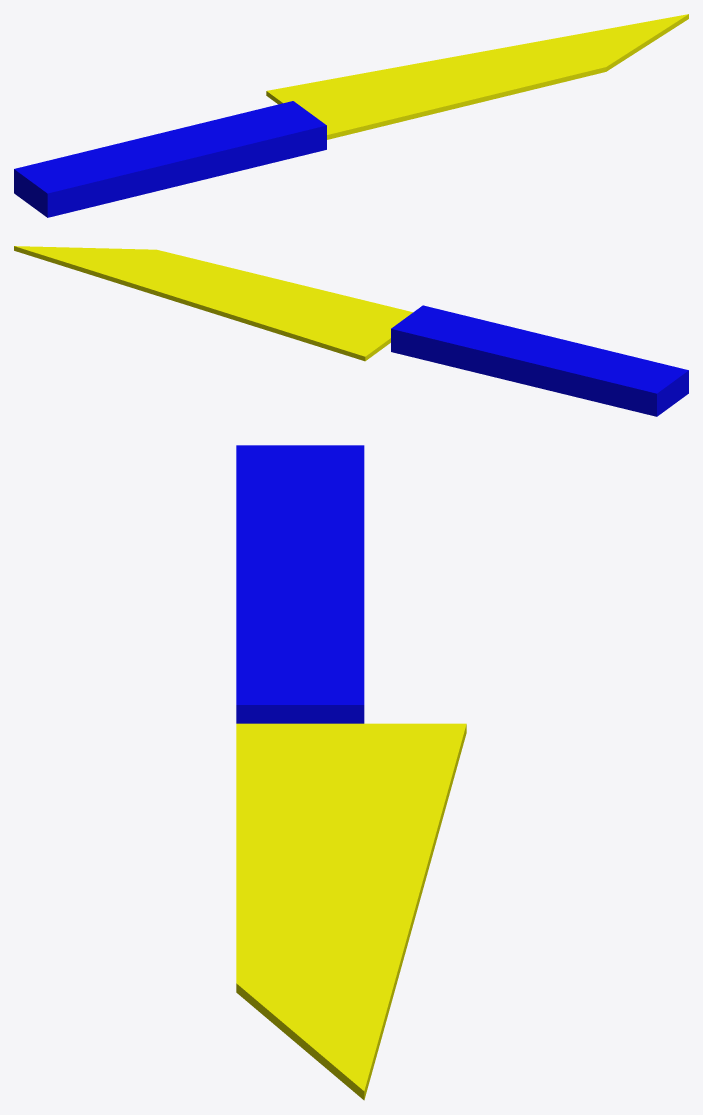
Rendered from nil_link_mesh.dae.
3 views of the same model, one above another, from view 1: azimuth 30°, elevation 25°; view 2: azimuth 150°, elevation 25°; view 3: azimuth 270°, elevation 25° (orthographic). The views are drawn at different scales.
Visible parts, largest first — view 1: nil_link (×2); view 2: nil_link (×2); view 3: nil_link (×2).
Part boxes in pixels (bbox=[...]): nil_link (×2): bbox=[14, 14, 688, 217]; nil_link (×2): bbox=[14, 246, 688, 416]; nil_link (×2): bbox=[236, 445, 466, 1100].
Size of the model in its own units: 0.29 by 0.01 by 0.045.
